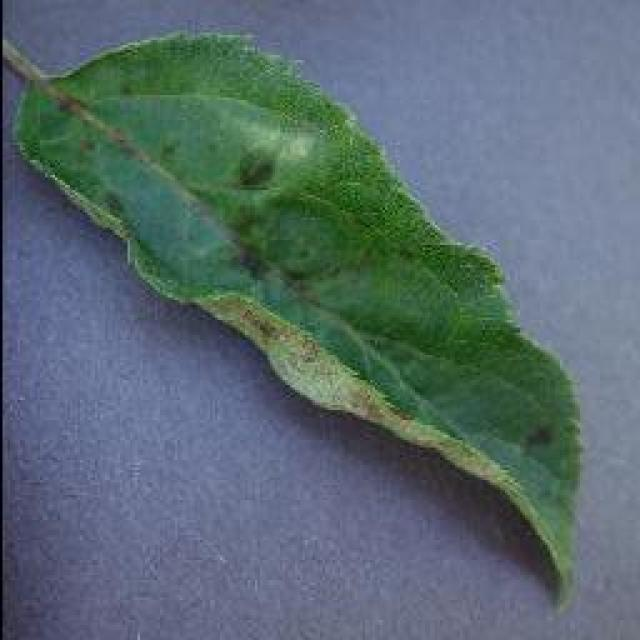apple scab disease: (3, 25, 585, 613)
